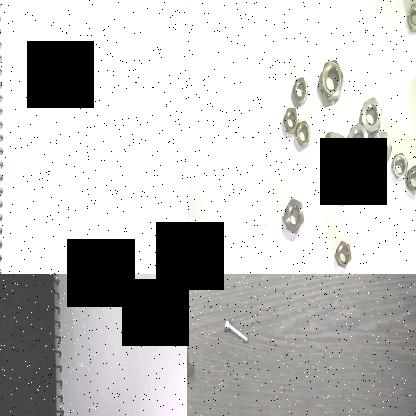Bolts: (222, 313, 248, 349), (187, 324, 194, 382)
NUTS: (356, 94, 384, 140), (319, 56, 344, 100), (280, 197, 307, 236), (366, 128, 392, 168), (345, 122, 369, 162), (320, 130, 347, 158), (280, 102, 301, 136), (334, 171, 352, 207), (290, 75, 310, 105), (294, 115, 312, 148), (334, 239, 352, 272), (390, 150, 408, 181), (403, 161, 416, 196), (404, 1, 416, 35)
